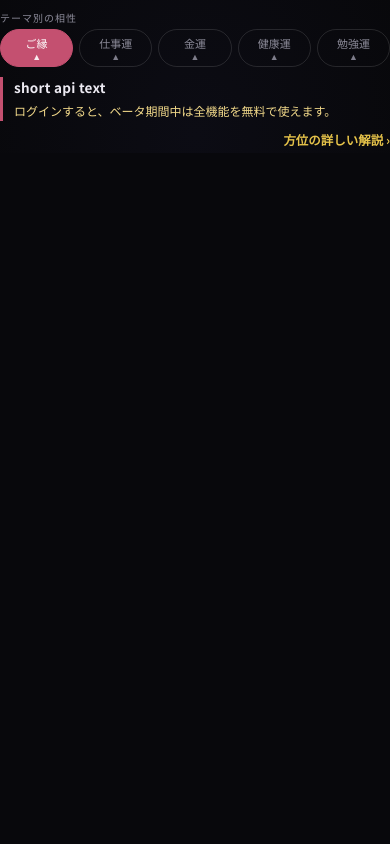
Test: FusionCard → L3ボトムシート（PR-5） › anon時はL3にも short と「ログインすると続きが読めます。」が出る
Check: the text "short api text" is shown, box [14,77,106,97]
Click the button "方位の詳しい解説 ›" at (337, 140), box [283,127,389,153]
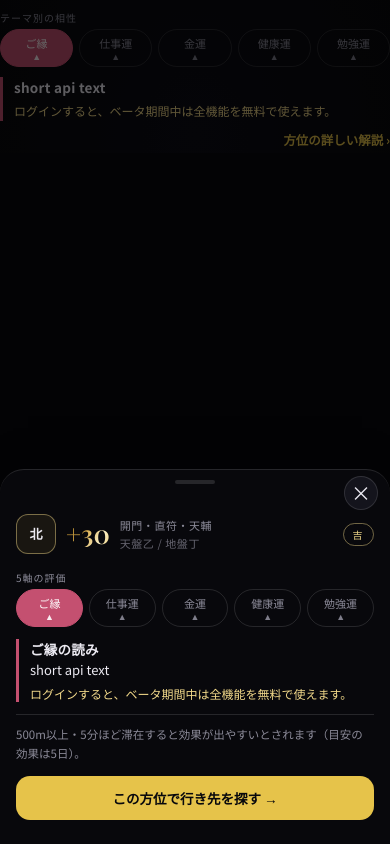
Check: the text "short api text" is shown, box [30,660,109,679]
Check: the text "ログインすると、ベータ期間中は全機能を無料で使えます。" is shown, box [30,685,374,702]
